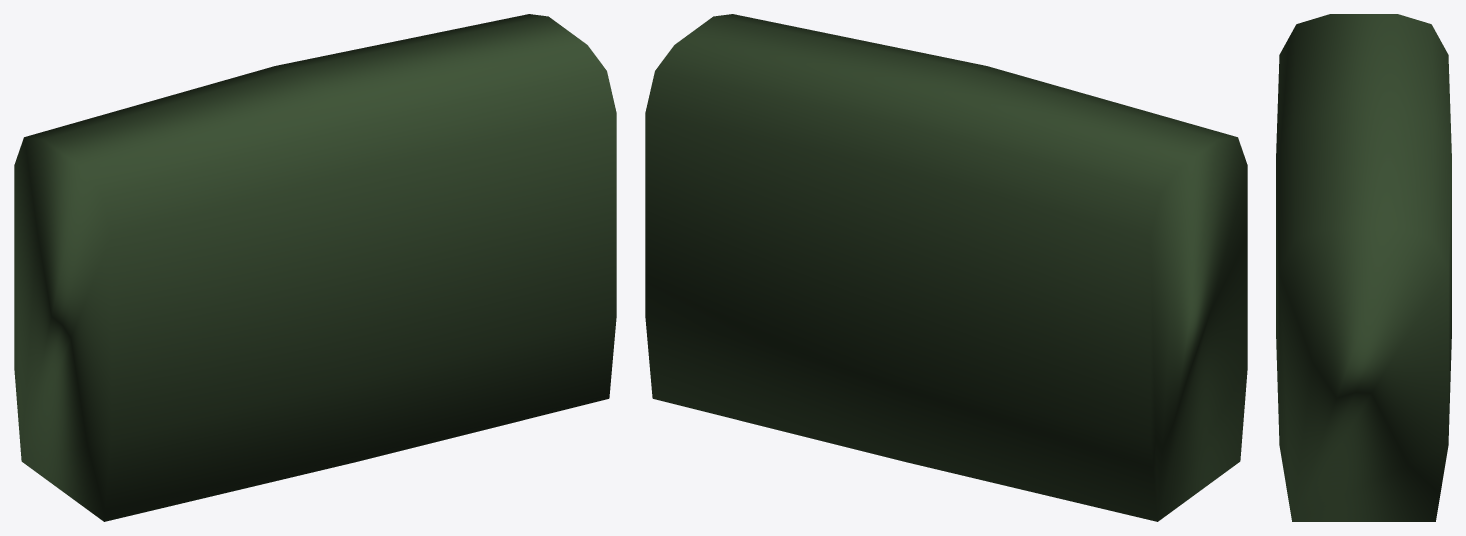
The model's file is fence-w1.fbx.
3 views of the same model, side by side, from view 1: azimuth 30°, elevation 25°; view 2: azimuth 150°, elevation 25°; view 3: azimuth 270°, elevation 25° (orthographic). The views are drawn at different scales.
Parts seen in each view (by area): view 1: a2000/200/fence-w1; view 2: a2000/200/fence-w1; view 3: a2000/200/fence-w1.
Part boxes in pixels (bbox=[...]): a2000/200/fence-w1: bbox=[14, 14, 616, 521]; a2000/200/fence-w1: bbox=[645, 14, 1247, 521]; a2000/200/fence-w1: bbox=[1276, 14, 1451, 521].
Size of the model in its own units: 1.8 by 1.18 by 0.624.
